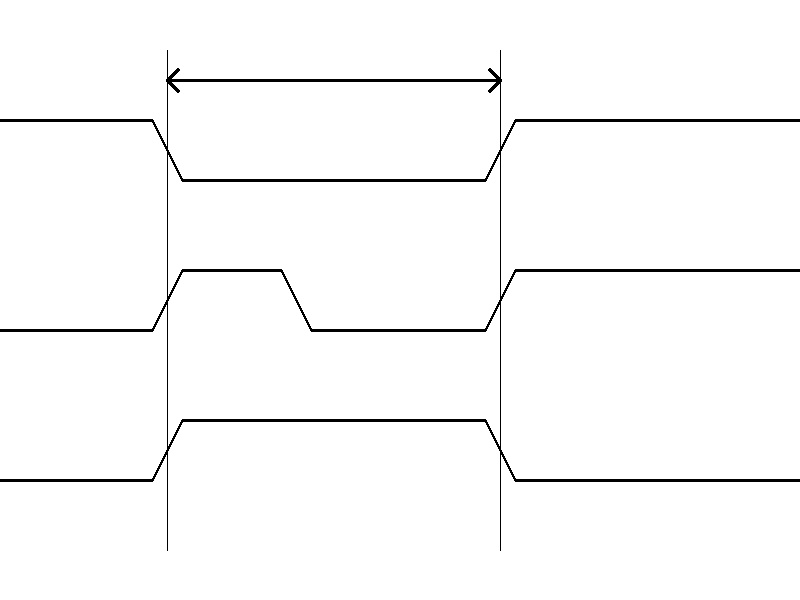double_arrow: (167, 65, 500, 95)
